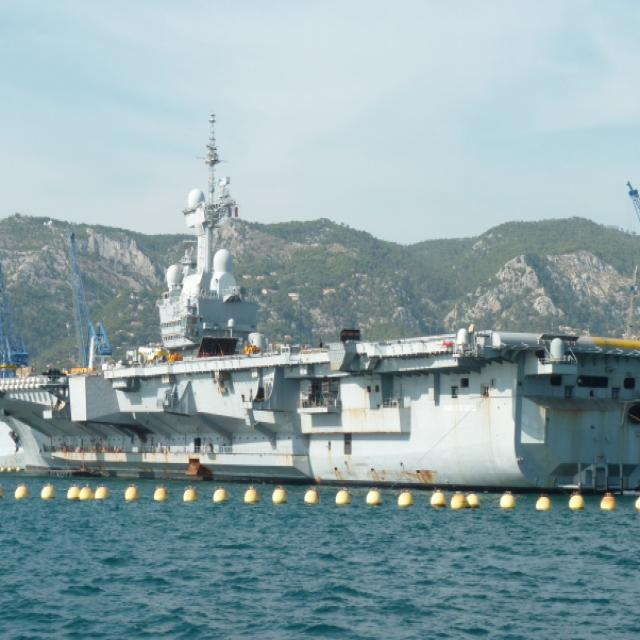Portanaves: (1, 98, 640, 490)
